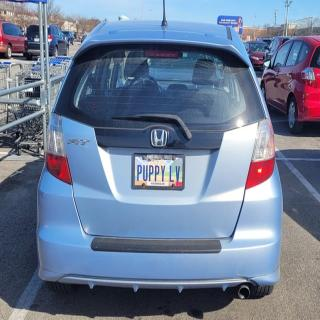license: (133, 154, 186, 191)
